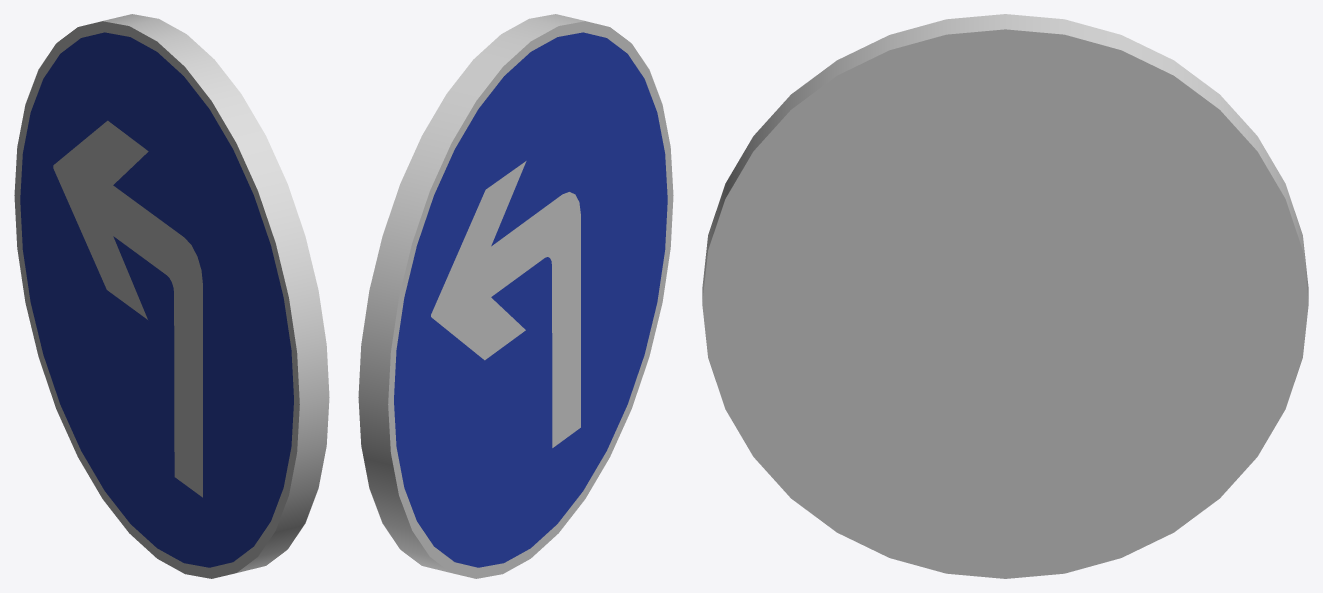
File: Turn_Left.fbx
3 renders of one model, left to right at view 1: azimuth 30°, elevation 25°; view 2: azimuth 150°, elevation 25°; view 3: azimuth 270°, elevation 25°, orthographic. The views are drawn at different scales.
Visible parts, largest first — view 1: Turn_Left; view 2: Turn_Left; view 3: Turn_Left.
Part boxes in pixels (x1,y1,x2,y2): Turn_Left: [14, 14, 329, 578]; Turn_Left: [358, 14, 673, 578]; Turn_Left: [702, 14, 1308, 578].
Bounding box in the file's own units: 0.0643 × 1 × 1.
